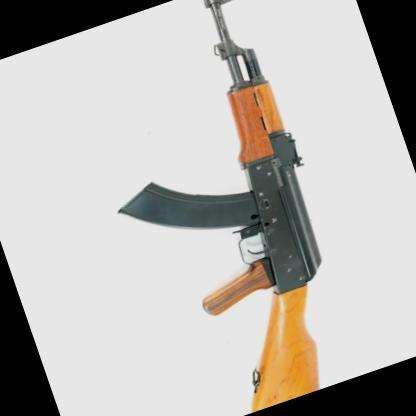rifle: (59, 0, 403, 416)
